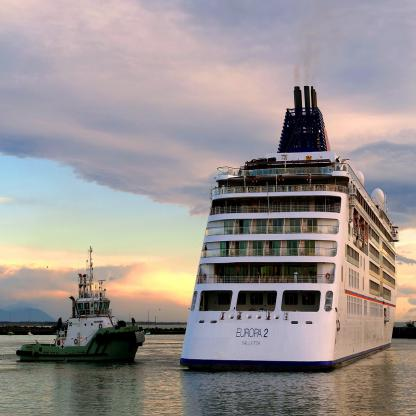Fishing Boat: (17, 245, 145, 363)
